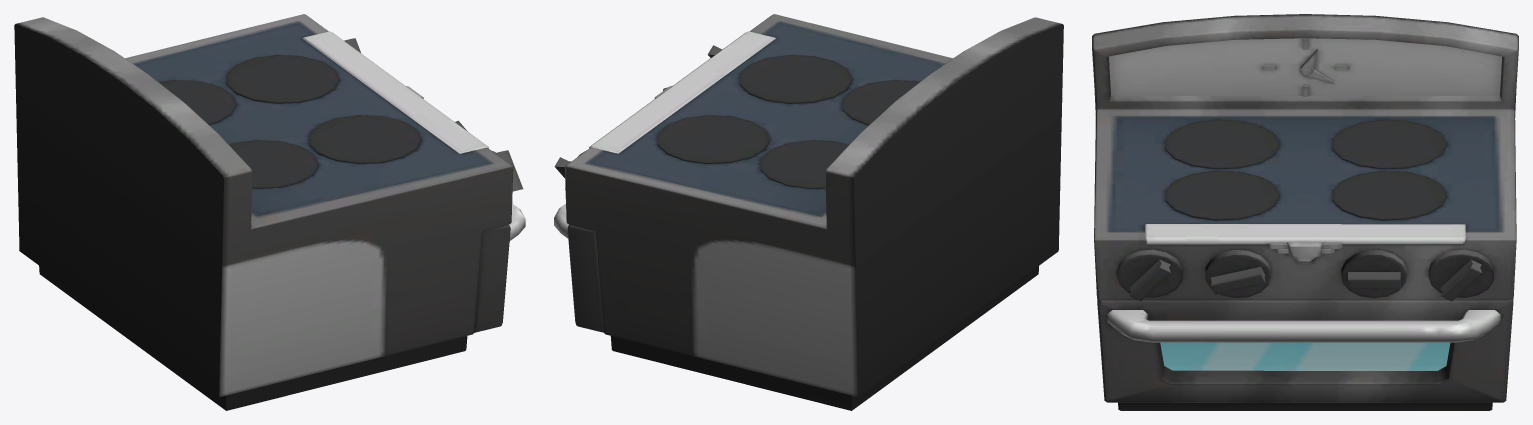
The model's file is Oven.fbx.
3 views of the same model, side by side, from view 1: azimuth 30°, elevation 25°; view 2: azimuth 150°, elevation 25°; view 3: azimuth 270°, elevation 25° (orthographic).
Parts seen in each view (by area): view 1: Oven; view 2: Oven; view 3: Oven.
Boxes of the visible parts, x1,y1,x2,y2 form: Oven: [14, 14, 525, 410]; Oven: [554, 14, 1063, 410]; Oven: [1092, 14, 1518, 410].
Size of the model in its own units: 63.13 by 49.06 by 70.3.
Materials: 1 (1 with a texture image).
